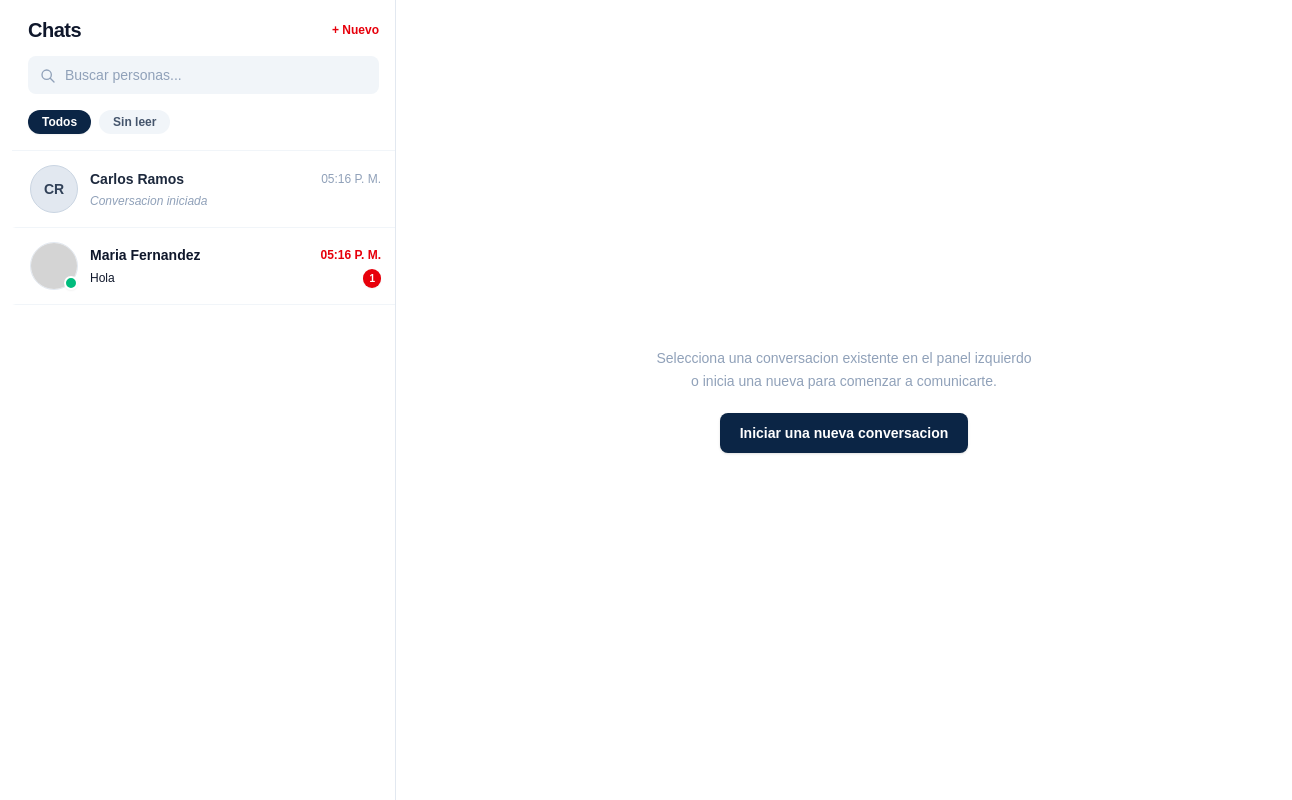
Test: ChatView & ChatPage › debe renderizar la conversacion seleccionada sin foto mostrando desconectado
Click the heading "Carlos Ramos" at (137, 179), box [90,169,184,189]
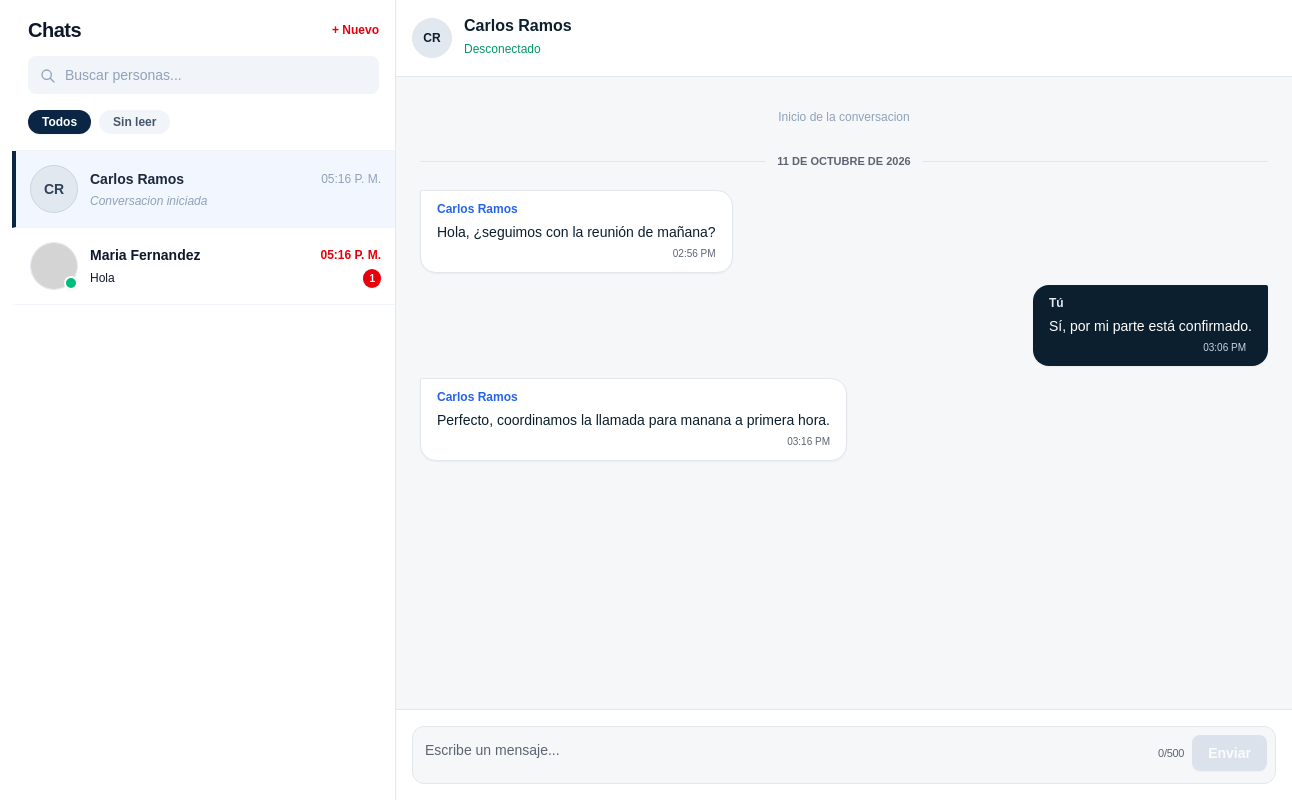
expect the text "Desconectado" is shown: met, box [464,42,541,56]
